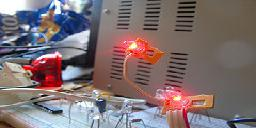LED: (115, 39, 149, 60)
